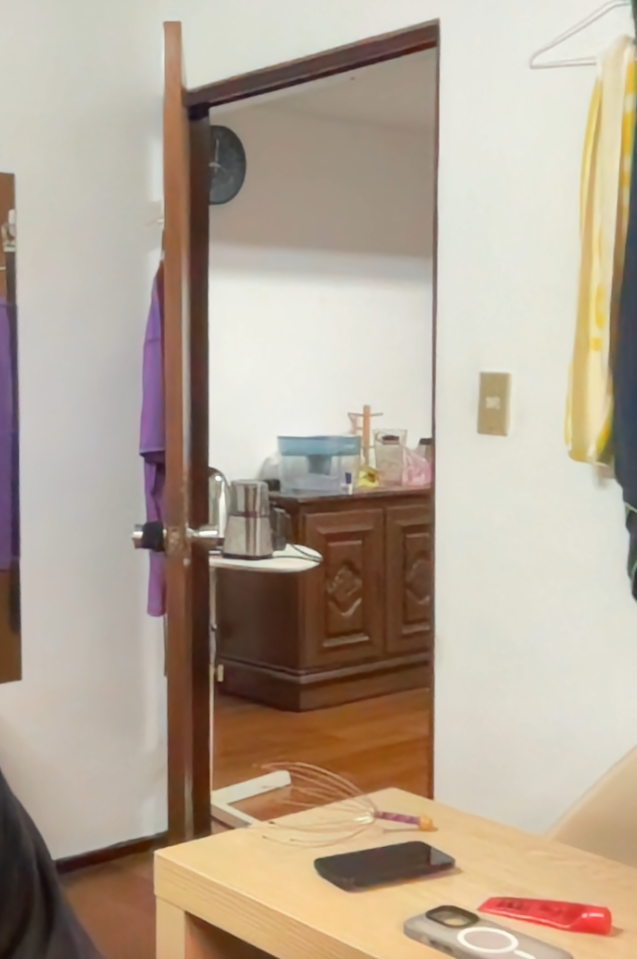Door Open: (88, 14, 441, 798)
